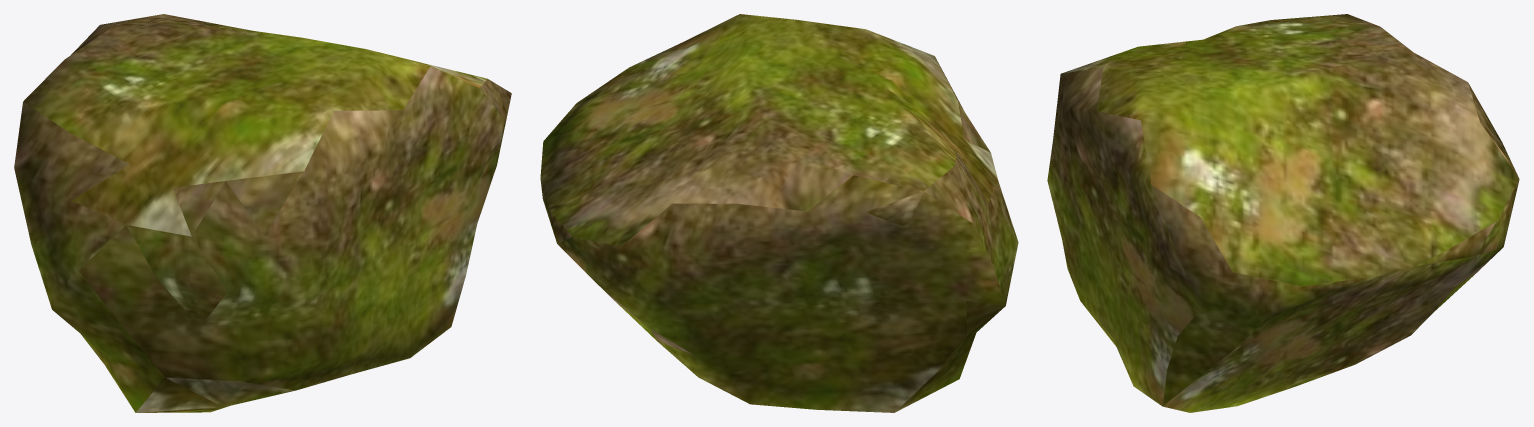
Rendered from rock_fist.glb.
3 views of the same model, side by side, from view 1: azimuth 30°, elevation 25°; view 2: azimuth 150°, elevation 25°; view 3: azimuth 270°, elevation 25° (orthographic). The views are drawn at different scales.
Visible parts, largest first — view 1: rock_fist; view 2: rock_fist; view 3: rock_fist.
Part boxes in pixels (left/top/right/bottom): rock_fist: left=14, top=14, right=511, bottom=412; rock_fist: left=540, top=14, right=1018, bottom=412; rock_fist: left=1047, top=14, right=1519, bottom=412.
Size of the model in its own units: 0.1 by 0.07 by 0.09.
1 material, 1 textured.
